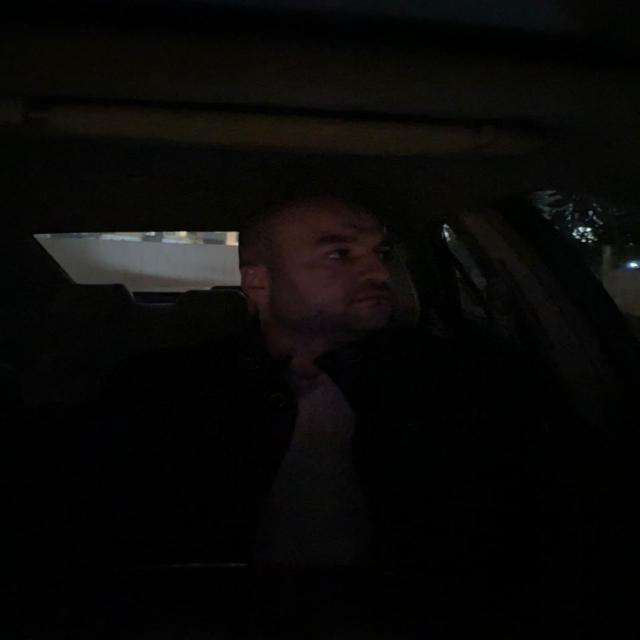LeftRight: (228, 192, 401, 345)
